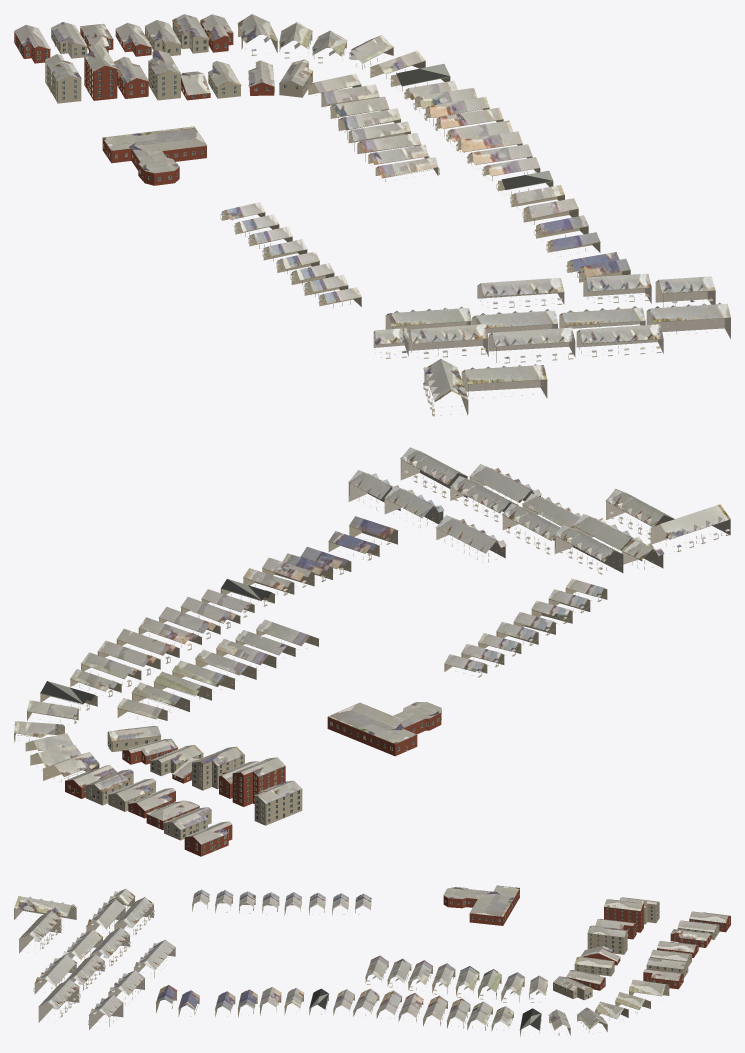
The picture shows the model from 3 angles, top to bottom: view 1: azimuth 30°, elevation 25°; view 2: azimuth 150°, elevation 25°; view 3: azimuth 270°, elevation 25°; orthographic projection. The views are drawn at different scales.
Visible parts, largest first — view 1: -1_9_599463983_0, -1_9_1336877241_33, -1_9_-20032297193_70, -1_9_-23069438949_80; view 2: -1_9_599463983_0, -1_9_1336877241_33, -1_9_-20032297193_70, -1_9_-23069438949_80; view 3: -1_9_599463983_0, -1_9_1336877241_33, -1_9_-20032297193_70, -1_9_-23069438949_80.
Part boxes in pixels (x1,y1,x2,y2): -1_9_599463983_0: [14, 14, 730, 416]; -1_9_1336877241_33: [45, 22, 630, 306]; -1_9_-20032297193_70: [373, 279, 730, 415]; -1_9_-23069438949_80: [391, 64, 553, 189]; -1_9_599463983_0: [14, 447, 730, 856]; -1_9_1336877241_33: [14, 526, 607, 840]; -1_9_-20032297193_70: [348, 459, 730, 572]; -1_9_-23069438949_80: [40, 579, 274, 704]; -1_9_599463983_0: [14, 885, 730, 1035]; -1_9_1336877241_33: [156, 898, 719, 1036]; -1_9_-20032297193_70: [14, 897, 526, 1029]; -1_9_-23069438949_80: [309, 988, 541, 1030].
Bounding box in the file's own units: 198 × 27.92 × 470.
13 materials, 1 textured.
